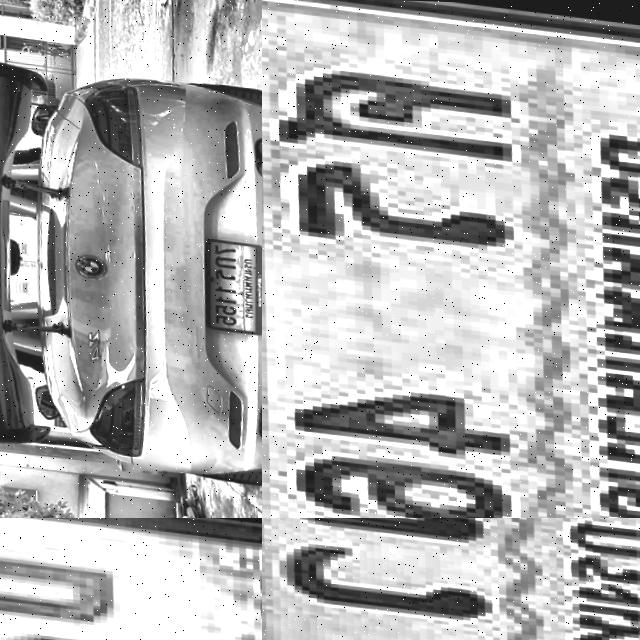license-plate: (262, 0, 640, 518), (262, 518, 640, 640), (0, 518, 262, 640), (182, 232, 262, 335)
